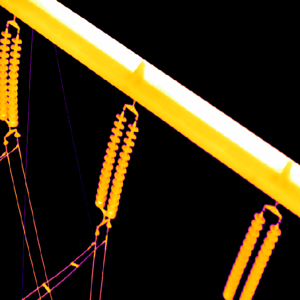insulator: (220, 210, 284, 300), (93, 111, 142, 219), (0, 26, 22, 130)
